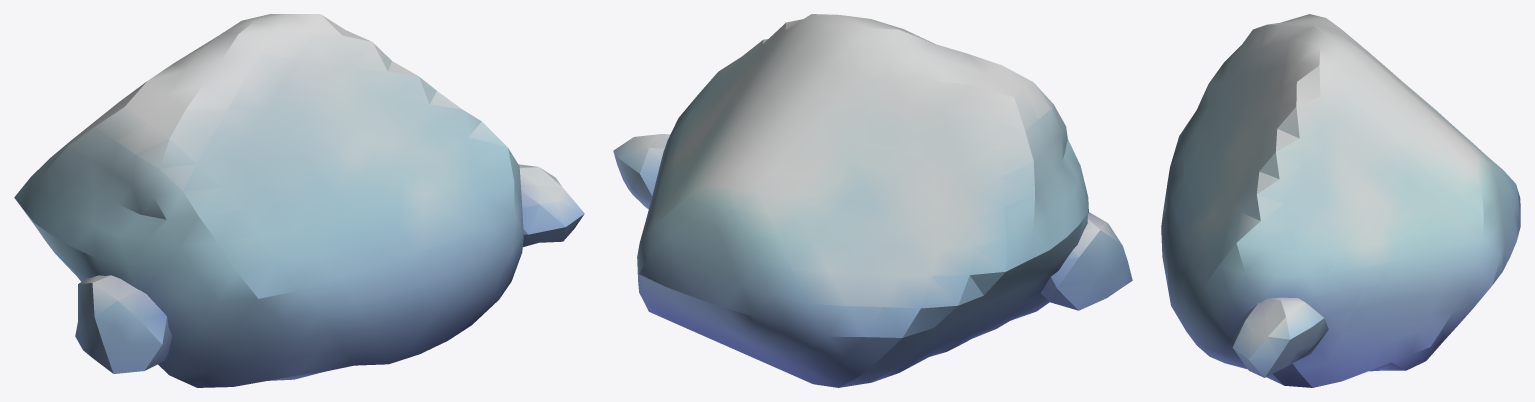
The model's file is glass_rock_chunk_a.glb.
3 renders of one model, left to right at view 1: azimuth 30°, elevation 25°; view 2: azimuth 150°, elevation 25°; view 3: azimuth 270°, elevation 25°, orthographic. The views are drawn at different scales.
Parts seen in each view (by area): view 1: glass_rock_chunk_a; view 2: glass_rock_chunk_a; view 3: glass_rock_chunk_a.
Boxes of the visible parts, x1,y1,x2,y2 form: glass_rock_chunk_a: (14,14,584,387); glass_rock_chunk_a: (613,14,1132,387); glass_rock_chunk_a: (1161,14,1520,387).
Bounding box in the file's own units: 2.21 × 1.26 × 1.57.
